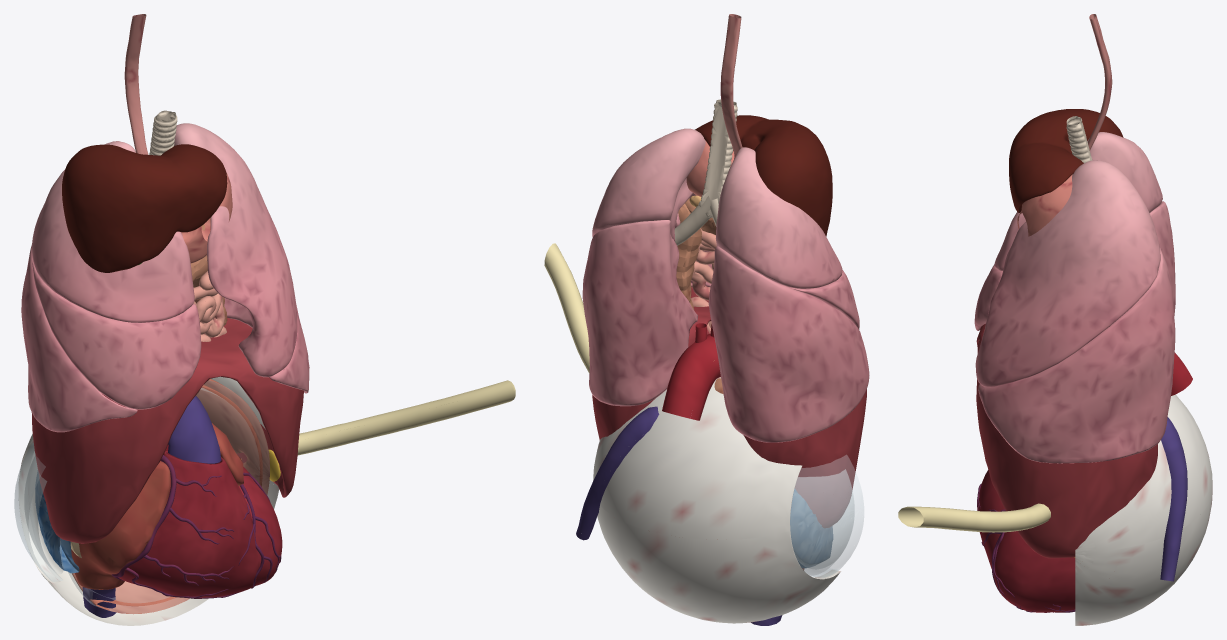
File: zanat-organs.glb
3 views of the same model, side by side, from view 1: azimuth 30°, elevation 25°; view 2: azimuth 150°, elevation 25°; view 3: azimuth 270°, elevation 25° (orthographic). The views are drawn at different scales.
Parts seen in each view (by area): view 1: ZR_lungs, ZR_diaphragm, ZD_liver, ZH_rv, ZE_vitreous, ZE_retina, ZE_sclera, ZH_ra, ZE_nerve, ZH_cor, ZE_cornea, ZH_pa (+8 smaller); view 2: ZR_lungs, ZE_sclera, ZR_diaphragm, ZE_cornea, ZD_liver, ZE_vitreous, ZH_aorta, ZH_pa, ZE_nerve, ZE_iris, ZR_trachea, ZD_esophagus (+4 smaller); view 3: ZR_lungs, ZE_sclera, ZR_diaphragm, ZD_liver, ZH_lv, ZE_nerve, ZH_pa, ZD_stomach, ZD_esophagus, ZH_rv, ZR_trachea, ZH_cor (+1 smaller).
Boxes of the visible parts, x1=… form: ZR_lungs: x1=21, y1=123, x2=309, y2=432; ZR_diaphragm: x1=31, y1=317, x2=303, y2=543; ZD_liver: x1=62, y1=144, x2=227, y2=272; ZH_rv: x1=115, y1=451, x2=257, y2=597; ZE_vitreous: x1=24, y1=380, x2=269, y2=613; ZE_retina: x1=72, y1=378, x2=269, y2=614; ZE_sclera: x1=18, y1=376, x2=279, y2=625; ZH_ra: x1=71, y1=461, x2=170, y2=589; ZE_nerve: x1=297, y1=380, x2=515, y2=455; ZH_cor: x1=111, y1=455, x2=281, y2=598; ZE_cornea: x1=14, y1=442, x2=62, y2=581; ZH_pa: x1=168, y1=396, x2=221, y2=463; ZR_lungs: x1=582, y1=128, x2=869, y2=442; ZE_sclera: x1=593, y1=377, x2=841, y2=623; ZR_diaphragm: x1=592, y1=287, x2=866, y2=527; ZE_cornea: x1=790, y1=455, x2=863, y2=577; ZD_liver: x1=695, y1=115, x2=832, y2=236; ZE_vitreous: x1=791, y1=469, x2=853, y2=569; ZH_aorta: x1=662, y1=323, x2=720, y2=420; ZH_pa: x1=576, y1=406, x2=659, y2=540; ZE_nerve: x1=544, y1=243, x2=589, y2=373; ZE_iris: x1=790, y1=489, x2=832, y2=568; ZR_trachea: x1=698, y1=99, x2=737, y2=217; ZD_esophagus: x1=720, y1=14, x2=742, y2=158; ZR_lungs: x1=974, y1=132, x2=1175, y2=463; ZE_sclera: x1=1075, y1=394, x2=1212, y2=625; ZR_diaphragm: x1=976, y1=323, x2=1157, y2=558; ZD_liver: x1=1009, y1=109, x2=1123, y2=212; ZH_lv: x1=993, y1=531, x2=1075, y2=612; ZE_nerve: x1=898, y1=503, x2=1050, y2=532; ZH_pa: x1=1160, y1=417, x2=1187, y2=581; ZD_stomach: x1=1017, y1=174, x2=1072, y2=236; ZD_esophagus: x1=1088, y1=14, x2=1112, y2=150; ZH_rv: x1=977, y1=470, x2=1004, y2=568; ZR_trachea: x1=1066, y1=116, x2=1092, y2=163; ZH_cor: x1=977, y1=483, x2=1075, y2=612.
Size of the model in its own units: 5.5 by 7.98 by 3.85.
